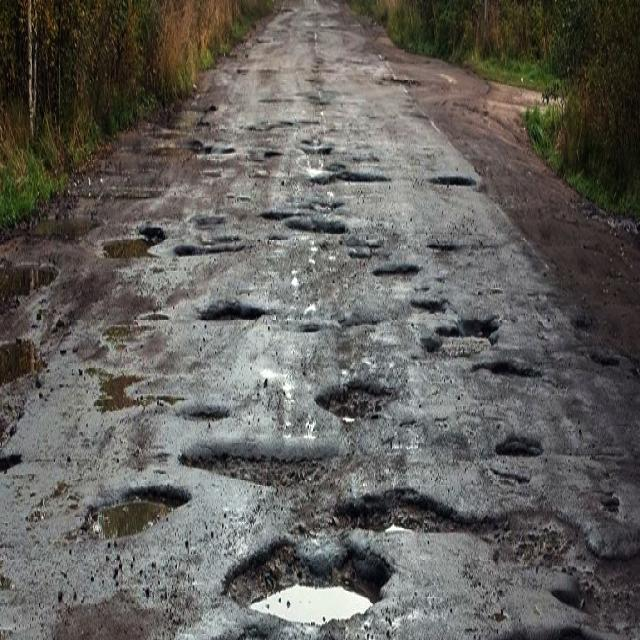Pothole: (55, 320, 599, 640), (154, 111, 505, 319)
